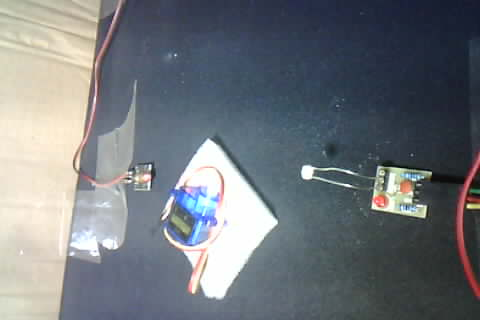motor: (158, 137, 263, 293)
